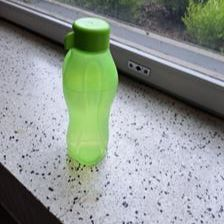bottle: (57, 16, 119, 168)
